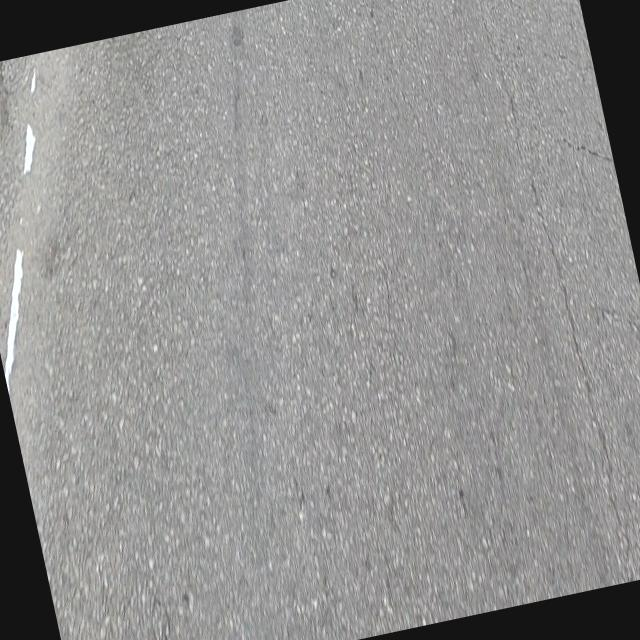Retak-Melintang: (561, 133, 613, 163)
Retak-Memanjang: (479, 3, 634, 579)
